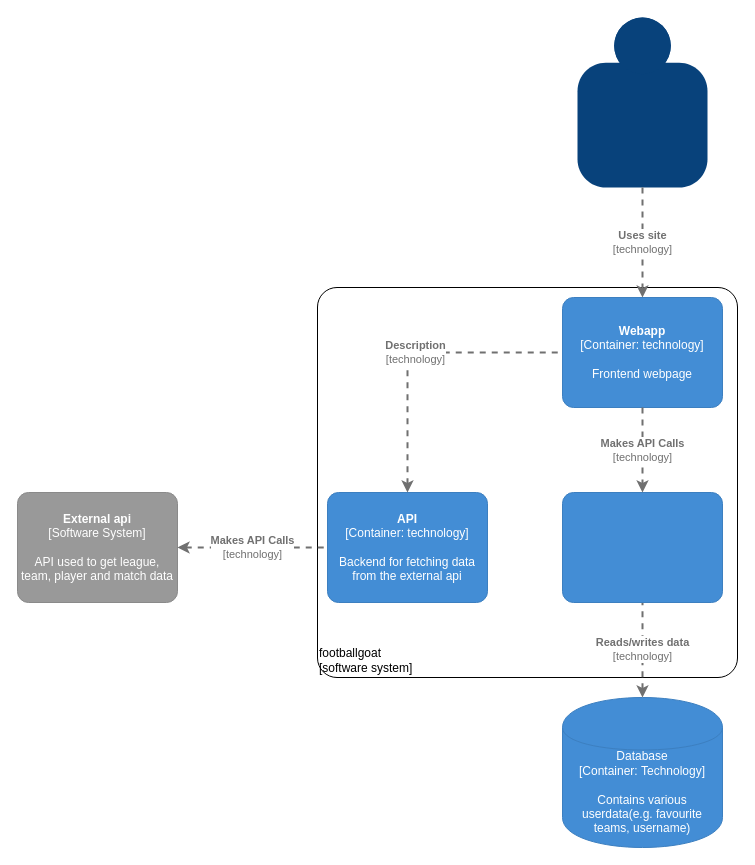
The diagram is 755 pixels wide and 865 high, and some of its shapes have lost their labels. The centre of each missing label's shape, as x and y in pixels:
"API [Container: technology] Backend written in C# containing ORM" goes at pixel 642 547.
"User site [Person] football fan" goes at pixel 642 102.
